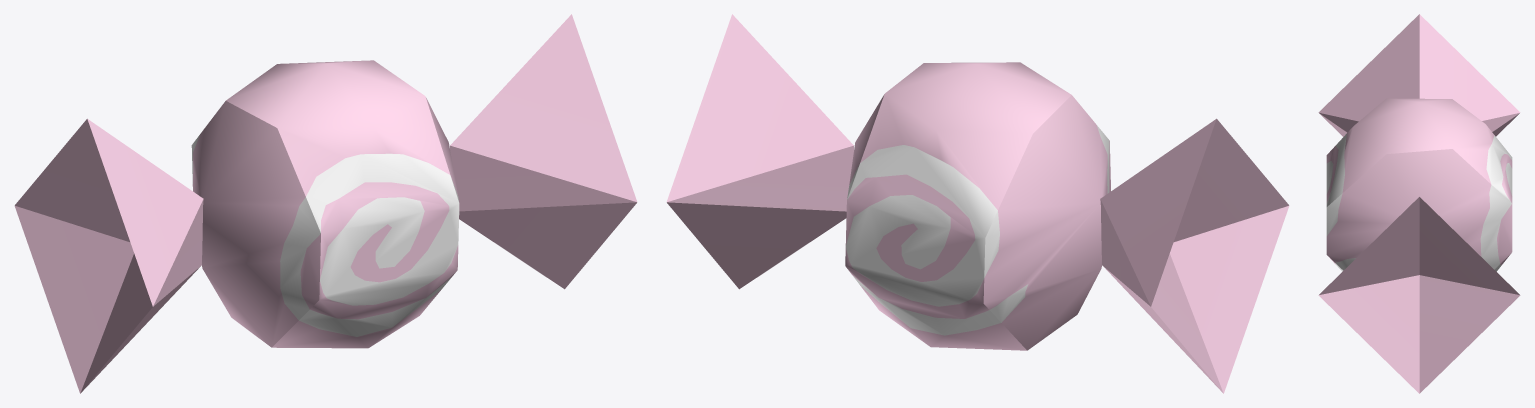
The model's file is Candy_5.fbx.
The picture shows the model from 3 angles, left to right: view 1: azimuth 30°, elevation 25°; view 2: azimuth 150°, elevation 25°; view 3: azimuth 270°, elevation 25°; orthographic projection. The views are drawn at different scales.
Visible parts, largest first — view 1: Candy_5; view 2: Candy_5; view 3: Candy_5.
Part boxes in pixels (x1,y1,x2,y2): Candy_5: (14, 14, 637, 393); Candy_5: (666, 14, 1289, 393); Candy_5: (1318, 14, 1520, 393).
Bounding box in the file's own units: 282 × 157 × 137.
